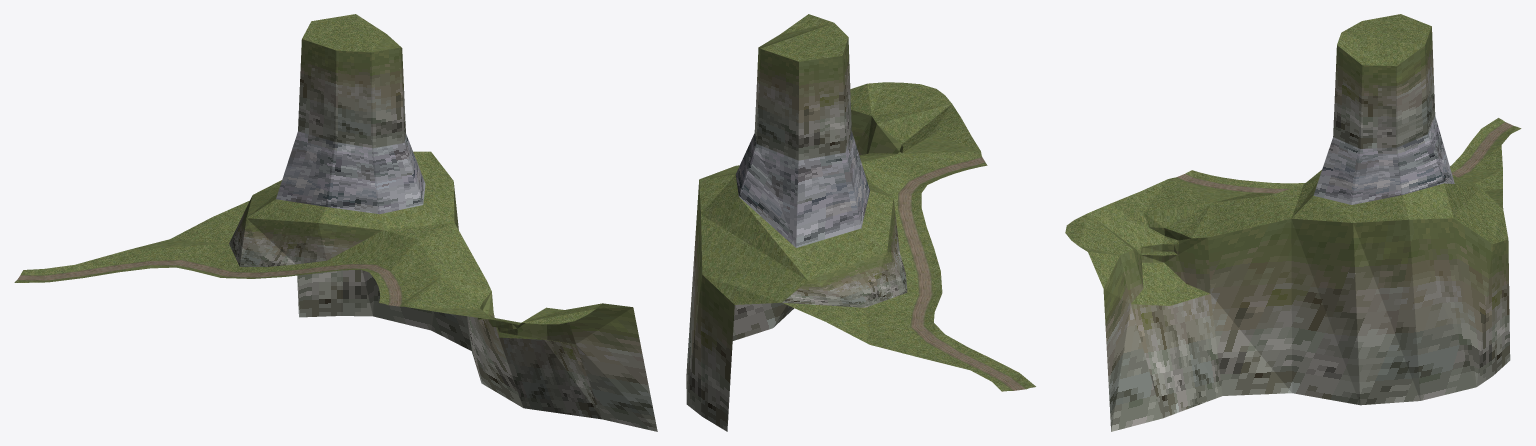
Rendered from lod_n_bit_16.obj.
3 renders of one model, left to right at view 1: azimuth 30°, elevation 25°; view 2: azimuth 150°, elevation 25°; view 3: azimuth 270°, elevation 25°, orthographic. The views are drawn at different scales.
Parts seen in each view (by area): view 1: lod_n_bit_16; view 2: lod_n_bit_16; view 3: lod_n_bit_16.
Part boxes in pixels (x1,y1,x2,y2): lod_n_bit_16: (14, 14, 657, 431); lod_n_bit_16: (686, 14, 1035, 431); lod_n_bit_16: (1065, 14, 1521, 431).
Bounding box in the file's own units: 185 × 133 × 171.
4 materials, 4 textured.
